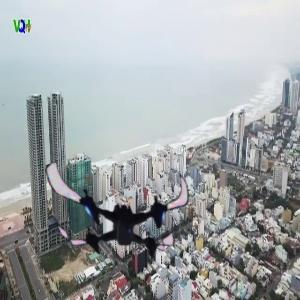drone: (54, 141, 197, 284)
